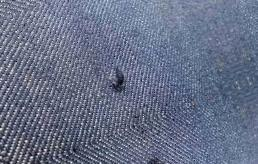knot: (107, 65, 131, 94)
